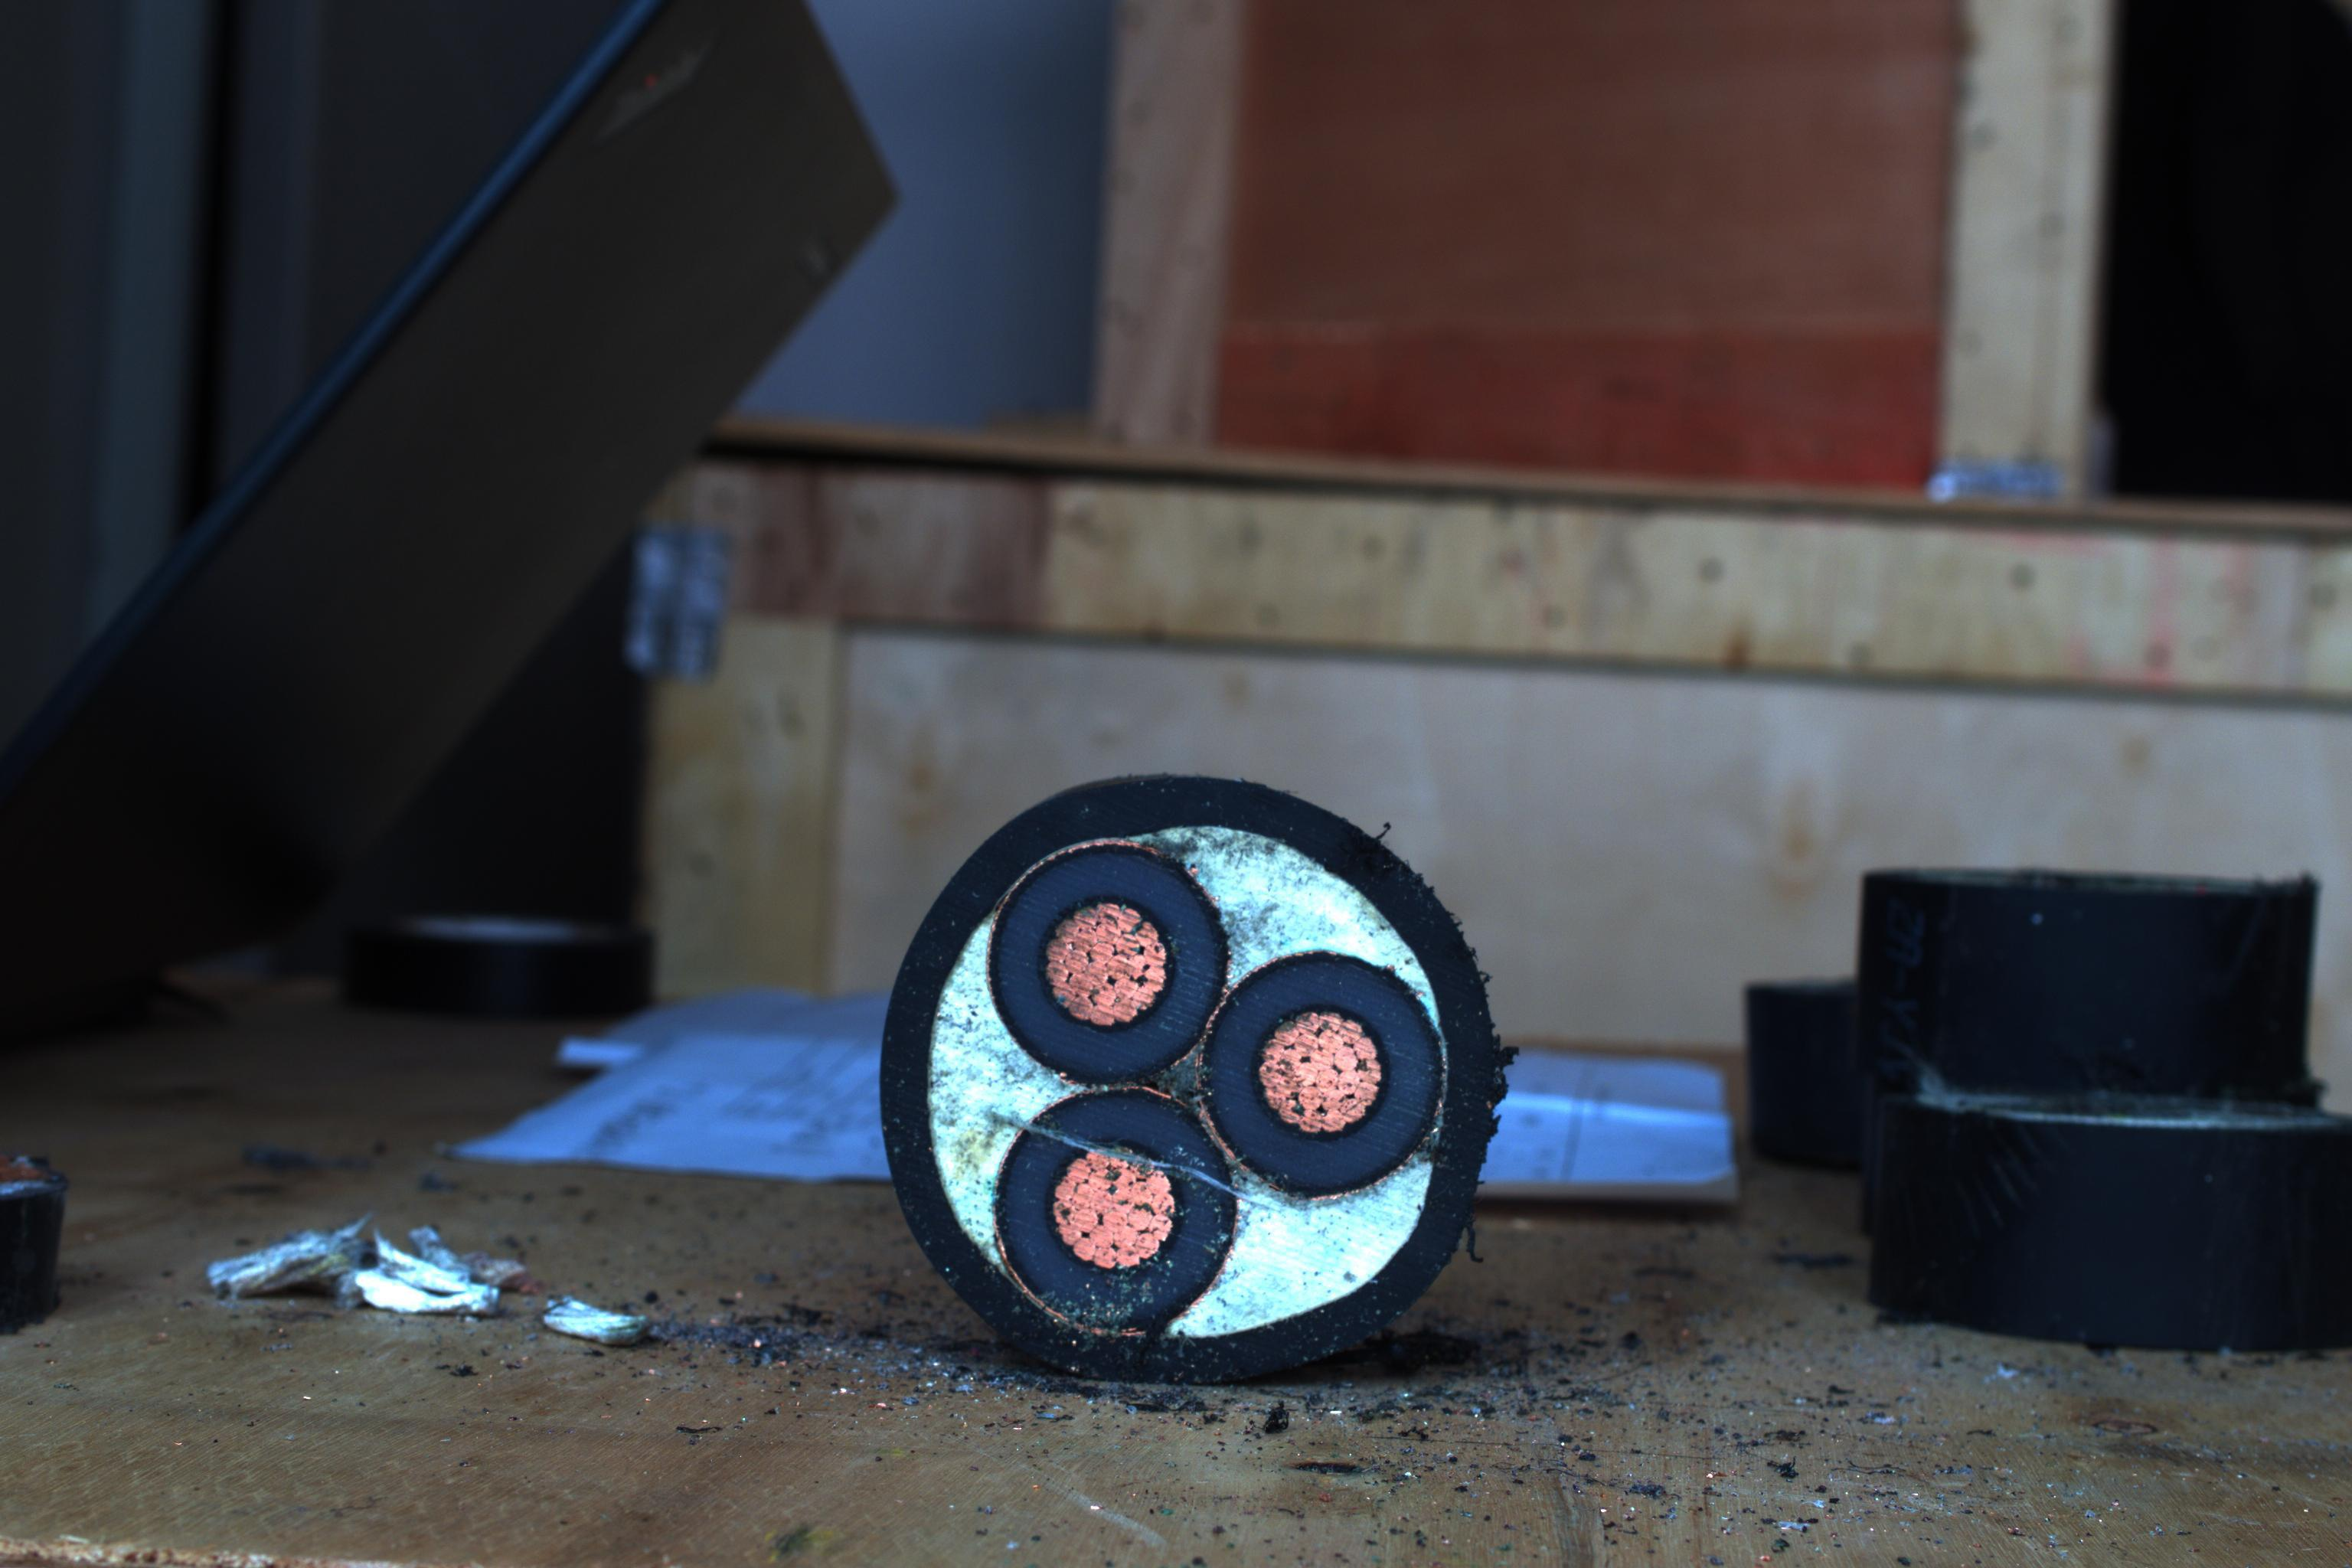ZA_YJV_8.7_10kV_3x120: (906, 789, 1487, 1347)
